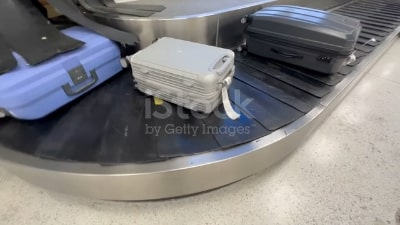baggage: (1, 24, 123, 123), (126, 34, 244, 122), (237, 4, 363, 79)
